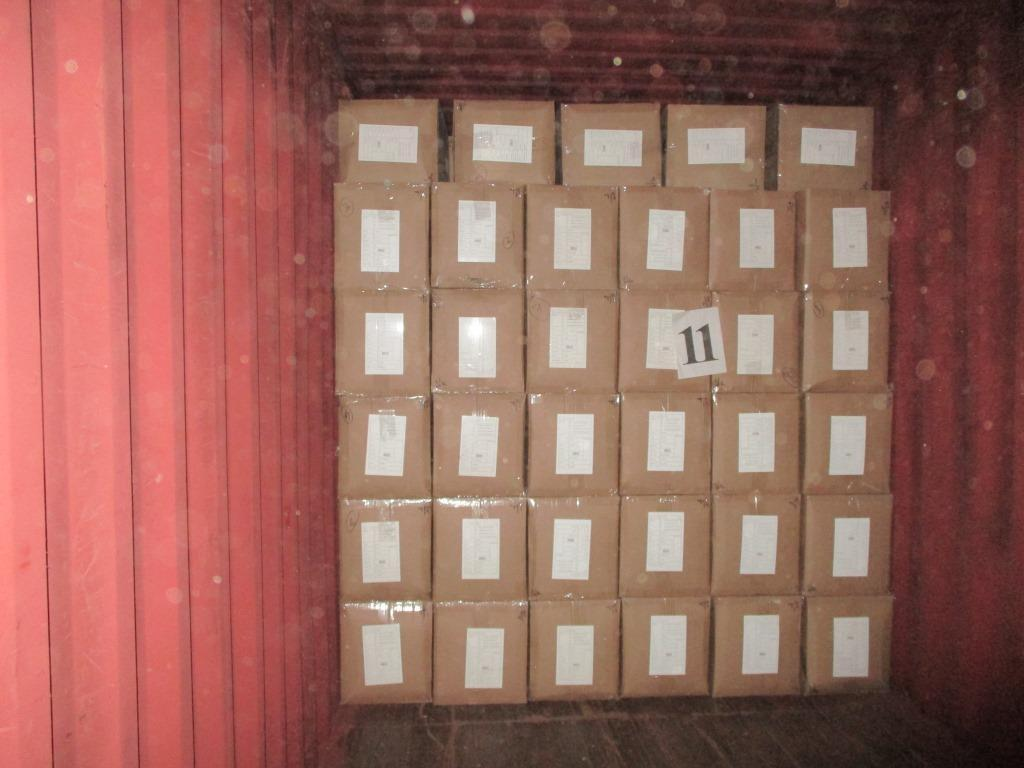carton: (332, 182, 430, 290), (335, 288, 430, 395), (429, 182, 524, 288), (336, 394, 431, 499), (433, 600, 528, 705), (525, 392, 620, 497), (794, 189, 892, 290), (431, 288, 525, 393), (524, 288, 618, 393), (525, 183, 618, 289), (432, 496, 526, 600), (431, 393, 525, 497), (527, 495, 620, 600), (338, 497, 432, 600), (338, 601, 432, 703), (618, 390, 710, 494), (707, 290, 801, 391), (618, 494, 710, 597), (618, 185, 710, 288), (528, 598, 621, 699), (618, 289, 710, 391), (710, 491, 800, 595), (801, 494, 892, 596), (802, 391, 892, 493), (712, 594, 802, 695), (620, 596, 710, 697), (710, 391, 800, 492), (800, 290, 889, 391), (452, 100, 556, 185), (708, 189, 795, 290), (802, 595, 892, 692), (337, 97, 438, 183), (665, 104, 767, 189), (558, 101, 660, 186), (776, 104, 873, 191)
